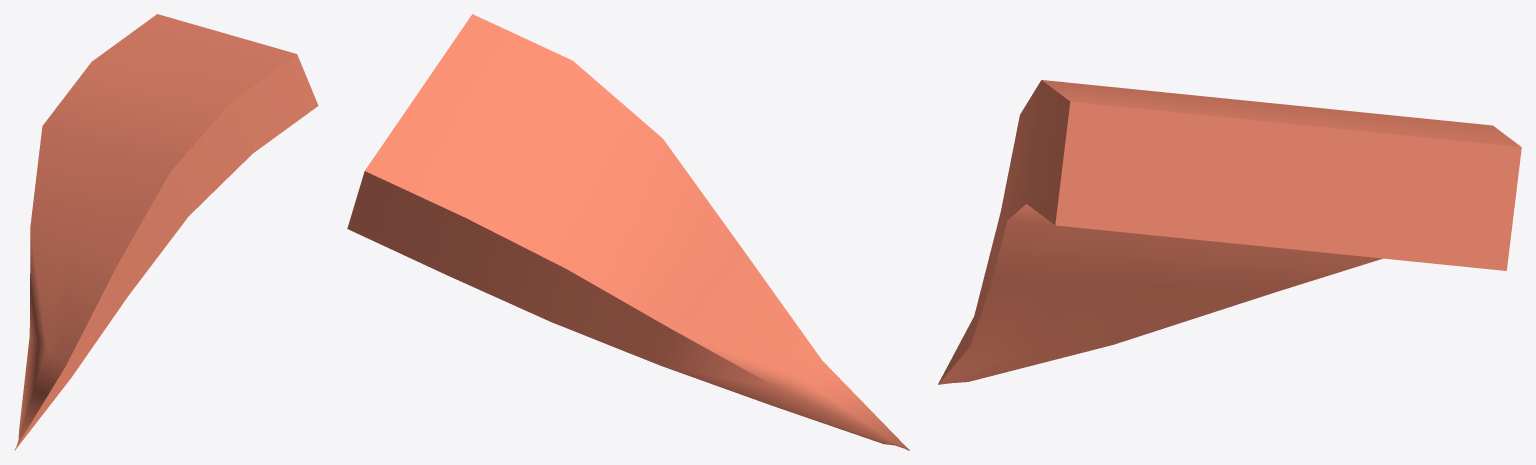
The model's file is wing1.obj.
The picture shows the model from 3 angles, left to right: view 1: azimuth 30°, elevation 25°; view 2: azimuth 150°, elevation 25°; view 3: azimuth 270°, elevation 25°; orthographic projection. The views are drawn at different scales.
Visible parts, largest first — view 1: Bird_LW_roll_env_07:fish:MaterialSG1_0; view 2: Bird_LW_roll_env_07:fish:MaterialSG1_0; view 3: Bird_LW_roll_env_07:fish:MaterialSG1_0.
Boxes of the visible parts, x1=… form: Bird_LW_roll_env_07:fish:MaterialSG1_0: x1=14, y1=14, x2=318, y2=450; Bird_LW_roll_env_07:fish:MaterialSG1_0: x1=347, y1=14, x2=909, y2=450; Bird_LW_roll_env_07:fish:MaterialSG1_0: x1=938, y1=80, x2=1521, y2=384.
Size of the model in its own units: 0.3495 by 0.2962 by 0.265.
Materials: 1 (1 with a texture image).
